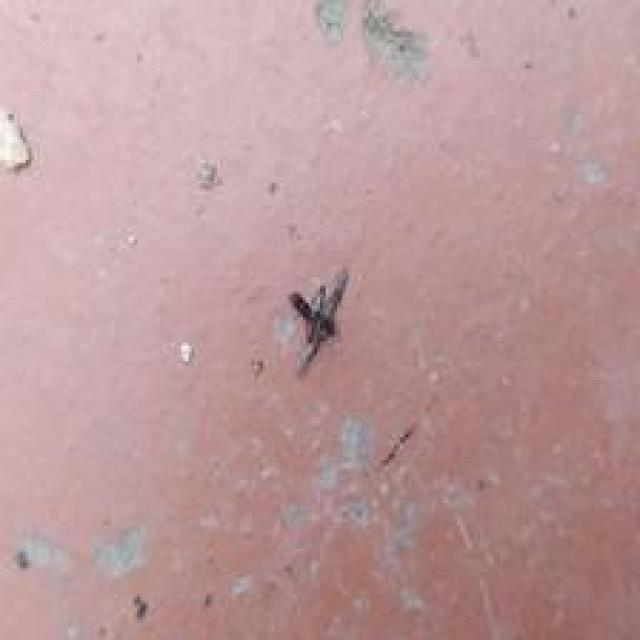Aedes albopictus: (286, 267, 348, 376)
